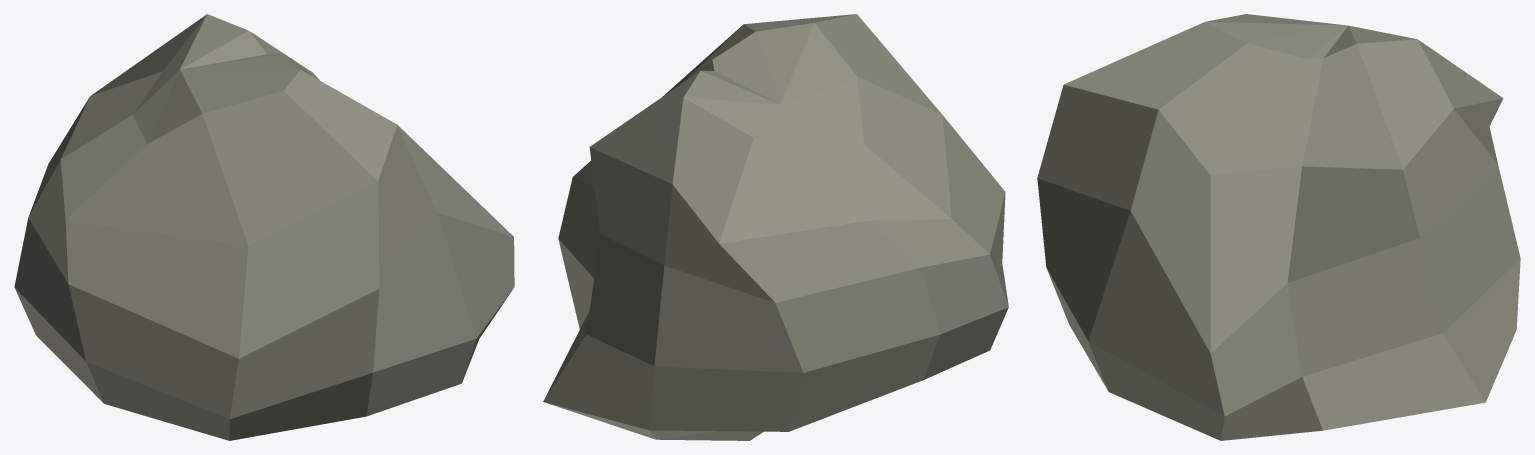
Rendered from Rock2.glb.
3 views of the same model, side by side, from view 1: azimuth 30°, elevation 25°; view 2: azimuth 150°, elevation 25°; view 3: azimuth 270°, elevation 25° (orthographic). The views are drawn at different scales.
Parts seen in each view (by area): view 1: Rock2 -col; view 2: Rock2 -col; view 3: Rock2 -col.
Boxes of the visible parts, <box> form: Rock2 -col: <box>14,14,514,440</box>; Rock2 -col: <box>543,14,1008,440</box>; Rock2 -col: <box>1037,14,1520,440</box>.
Size of the model in its own units: 0.6331 by 0.4885 by 0.5831.
1 material, 1 textured.
